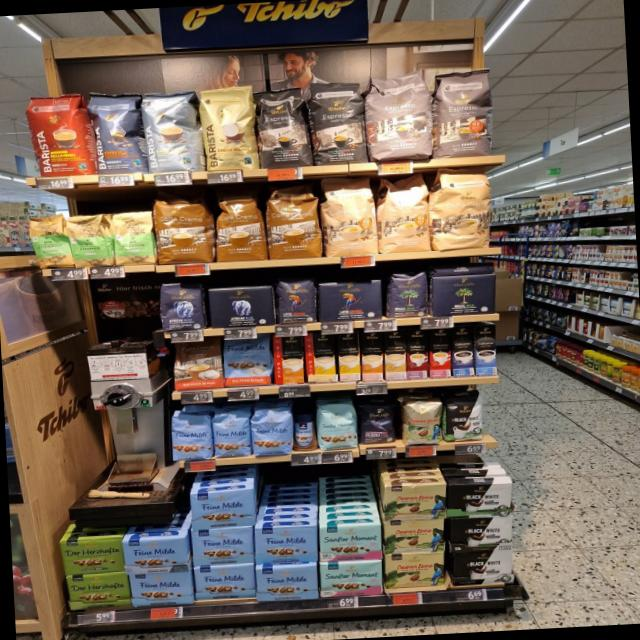AB Bohne: (158, 280, 206, 332)
AB Gemahlen: (206, 284, 277, 330)
Athiopien Bohne: (26, 213, 74, 268)
Athiopien Gemahlen: (65, 212, 114, 270), (112, 209, 156, 267)
BM Bohne: (388, 270, 430, 321)
BM Gemahlen: (431, 272, 498, 316)
BW Bohne: (443, 392, 488, 443)
BW Gemahlen: (446, 480, 514, 519), (448, 515, 514, 554), (452, 548, 516, 586)
Barista CB: (198, 86, 258, 170)
Barista CC: (143, 86, 205, 172)
Barista Espresso: (88, 89, 146, 175)
Barista Kolumbien: (27, 91, 95, 179)
C Fino Bohne: (358, 396, 399, 446)
CC Mild: (430, 166, 494, 252), (322, 175, 379, 258), (377, 174, 432, 253)
CC Vollmundig: (172, 340, 224, 391)
CC Vollmundig 36 Pads: (152, 190, 215, 265), (266, 182, 324, 260), (212, 187, 268, 263)
Colombia BB Bohne: (401, 398, 443, 448)
Colombia BB Gemahlen: (382, 481, 448, 522), (382, 517, 447, 555), (386, 551, 446, 590)
Espresso Aromatisch: (366, 70, 437, 161)
Espresso Kraftig: (309, 78, 368, 165), (255, 88, 311, 168)
Espresso M Art: (434, 68, 496, 157)
FM 36 Pads: (222, 337, 273, 388)
FM Bohne: (170, 410, 213, 462), (250, 406, 294, 456), (212, 406, 250, 458)
FM Gemahlen: (253, 522, 319, 566), (189, 488, 257, 530), (121, 534, 190, 574), (190, 526, 256, 566), (255, 563, 320, 603), (128, 570, 195, 608), (192, 564, 256, 601)
FM Instant: (292, 411, 318, 453)
Herzhatfe Mundig: (60, 536, 126, 576), (66, 572, 130, 612)
LG Bohne: (276, 276, 318, 326)
LG Gemahlen: (318, 280, 384, 323)
SM Bohne: (316, 399, 358, 452)
SM Gemahlen: (318, 521, 383, 563), (320, 560, 384, 599)
Simo CCMild: (304, 331, 336, 383)
Simo CCMild bigpack: (338, 332, 360, 382)
Simo CCVollmundig: (274, 334, 304, 384)
Simo CCVollmundig bigpack: (361, 330, 384, 382)
Simo Decaff: (384, 330, 407, 381)
Simo Es Brazil: (428, 327, 452, 378)
Simo Es Caramel: (406, 328, 428, 380)
Simo Es Kraft: (452, 326, 476, 377)
Simo Es Vanilla: (475, 324, 497, 376)
